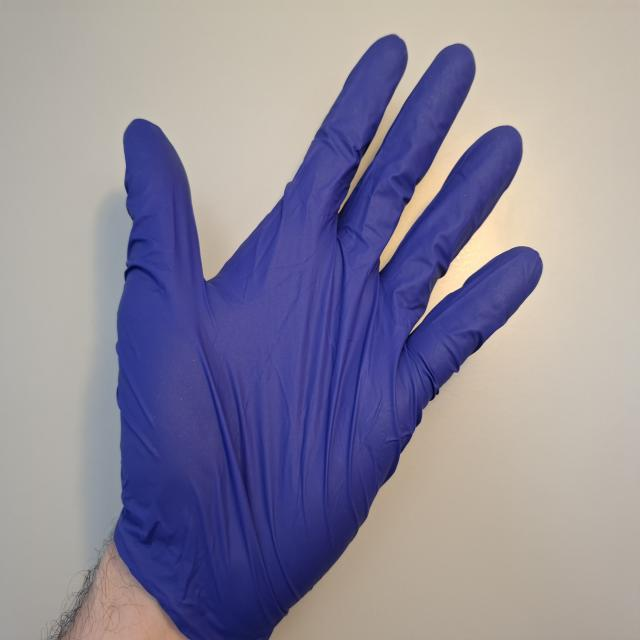glove_on: (111, 30, 545, 640)
